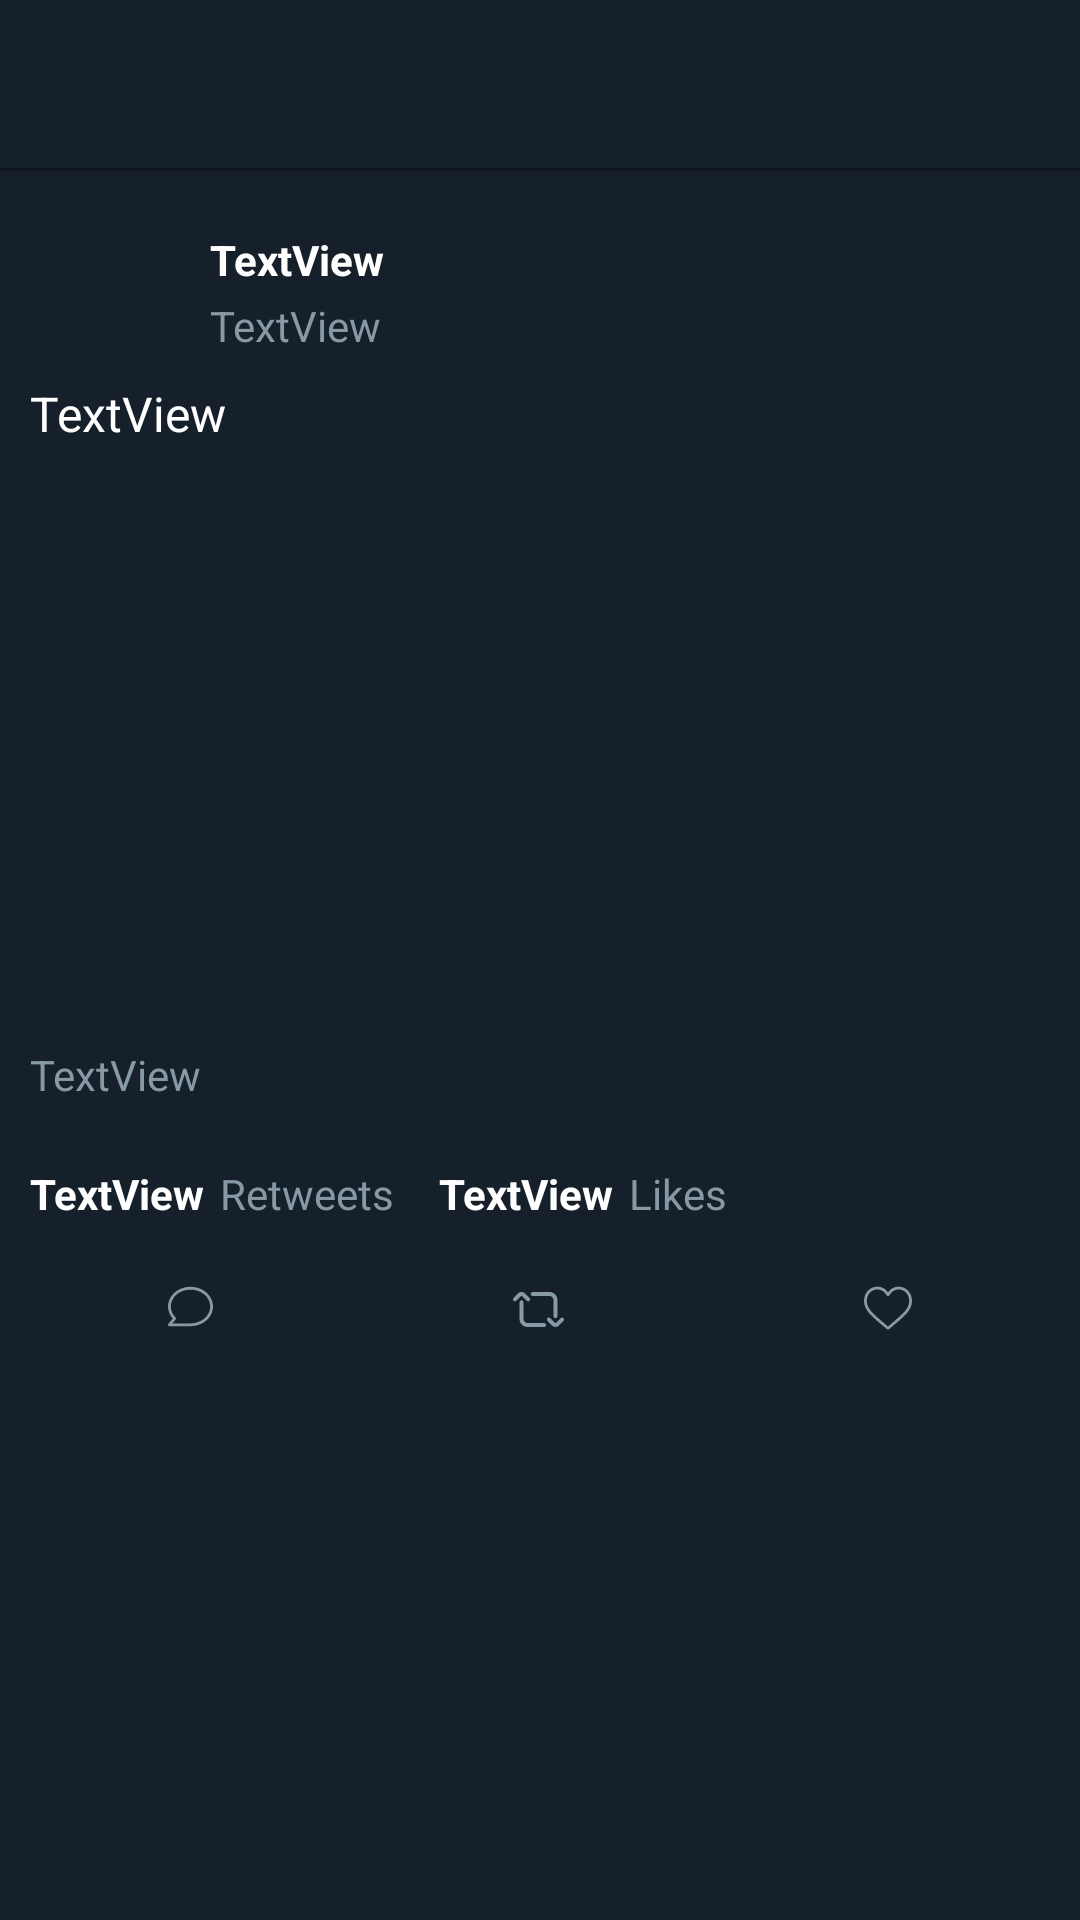

Named icons in this screenshot (1080px×1920px) and their centers, point (x, y):
comment: point (190, 1306)
